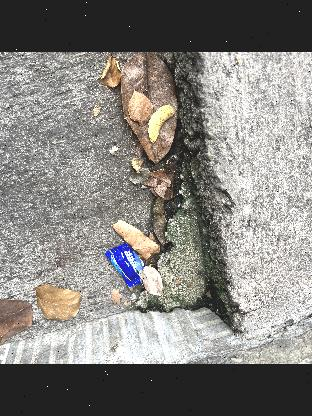Others: (101, 240, 146, 288)
